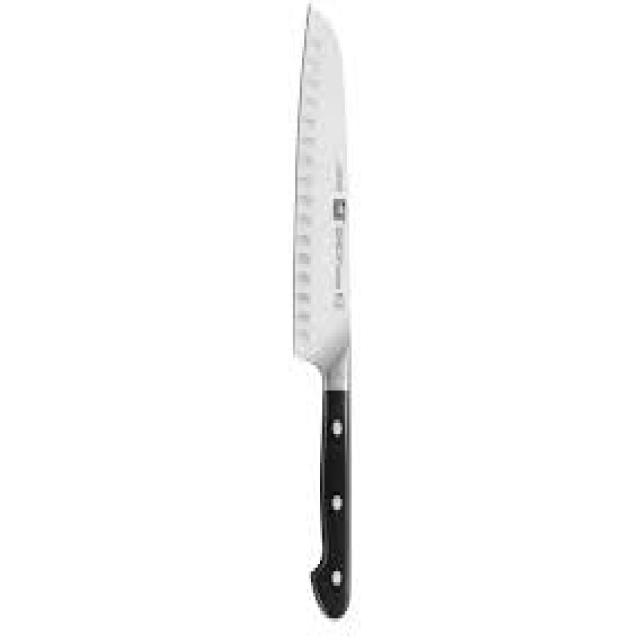knife: (287, 1, 357, 629)
